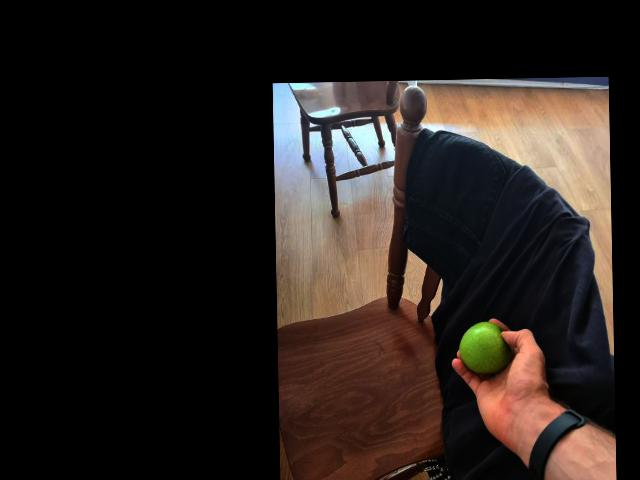apple: (456, 322, 506, 374)
